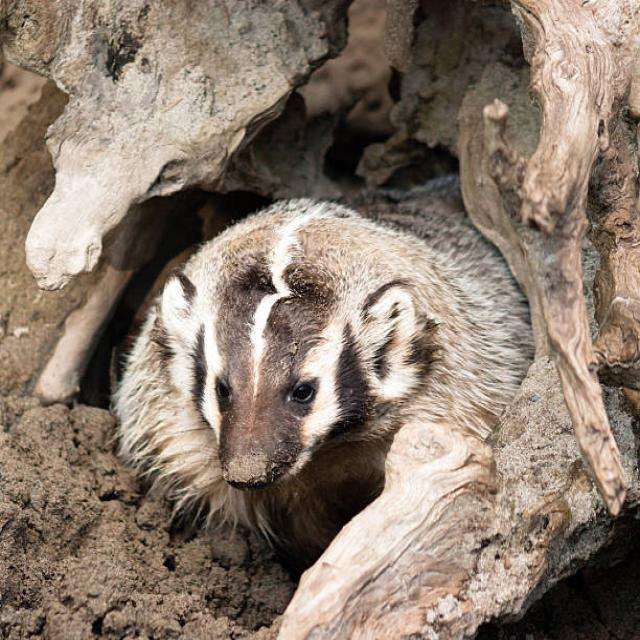Badger: (115, 205, 509, 543)
